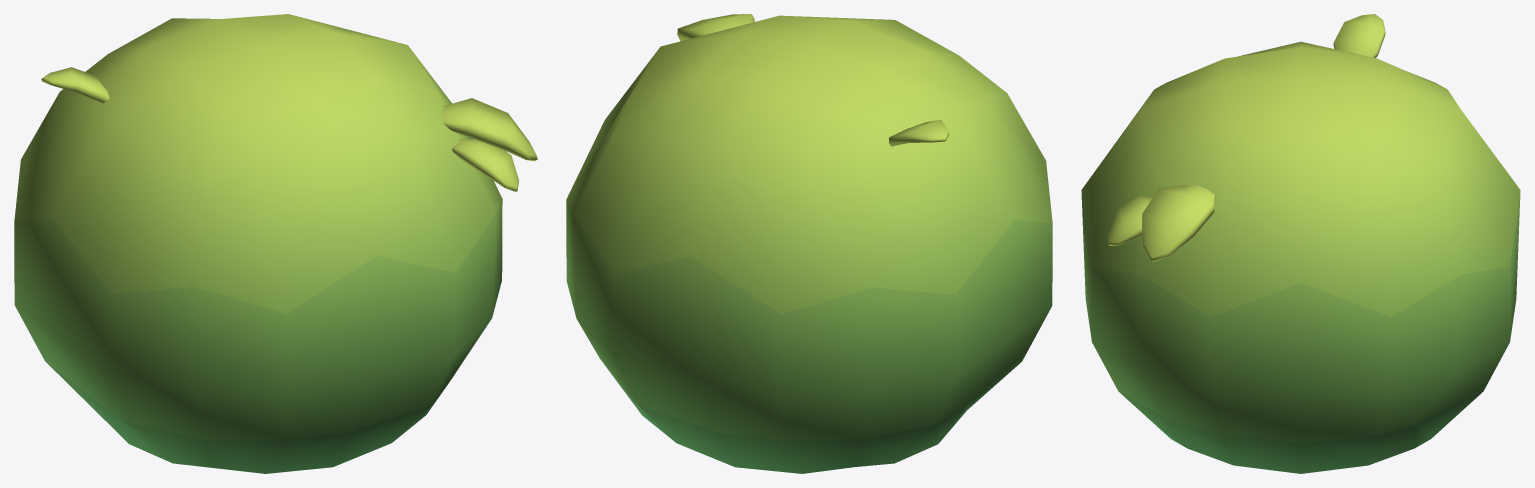
Rendered from platform_kit008.fbx.
3 views of the same model, side by side, from view 1: azimuth 30°, elevation 25°; view 2: azimuth 150°, elevation 25°; view 3: azimuth 270°, elevation 25° (orthographic). The views are drawn at different scales.
Parts seen in each view (by area): view 1: platform_kit008; view 2: platform_kit008; view 3: platform_kit008.
Boxes of the visible parts, bbox=[...] form: platform_kit008: bbox=[14, 14, 537, 473]; platform_kit008: bbox=[566, 14, 1052, 473]; platform_kit008: bbox=[1081, 14, 1520, 473].
Bounding box in the file's own units: 112 × 98.58 × 112.
Materials: 1 (1 with a texture image).
